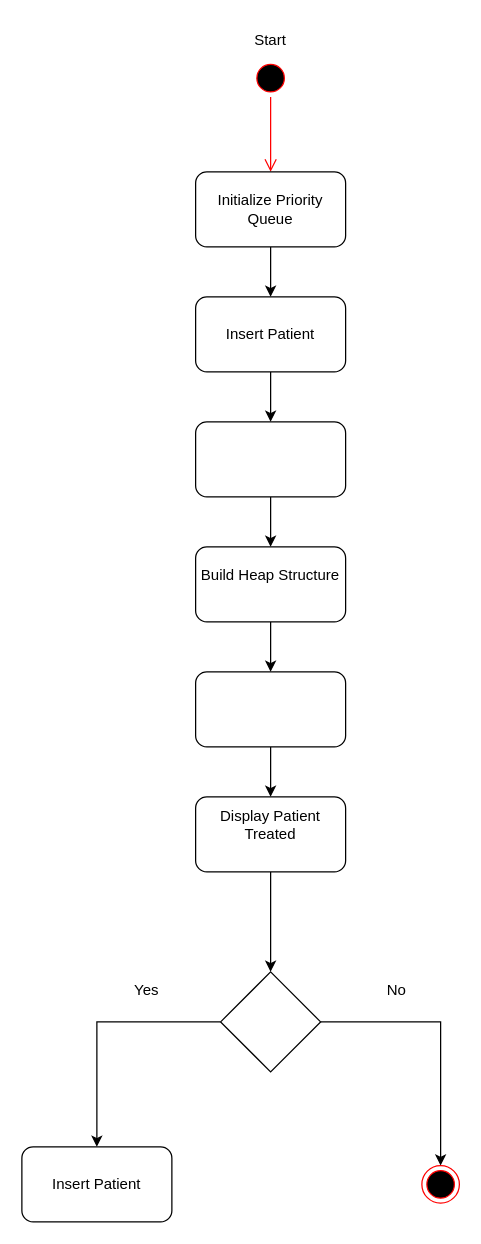
This 481x1244 diagram has some shape labels left out. The shapes that lost their labels are listed below. From the top down, each one's centre as x and y in pixels, then its label:
pixel 270 459: Assign Severity Level
pixel 270 709: Remove Highest Priority Patient
pixel 270 1021: More Patients?
